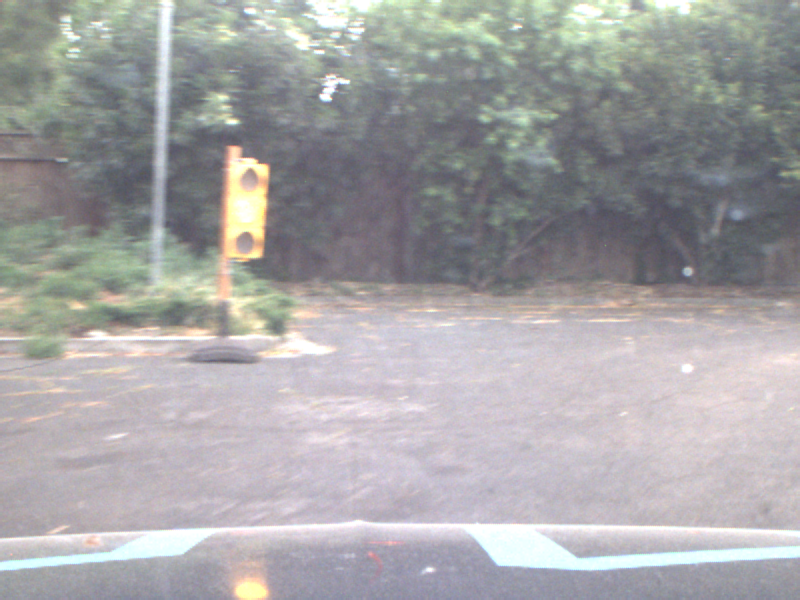Yellow: (227, 160, 259, 258)
